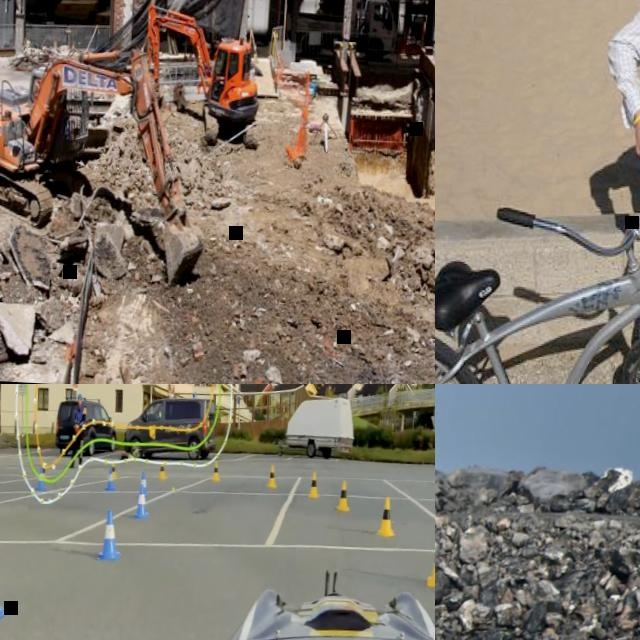NO-Hardhat: (77, 394, 83, 400)
NO-Mask: (79, 401, 82, 407)
NO-Safety Vest: (75, 407, 86, 428)
Person: (590, 0, 640, 384), (70, 394, 88, 470)
Safety Cone: (99, 510, 125, 562), (0, 539, 13, 625), (379, 494, 398, 538), (336, 479, 351, 514), (302, 71, 312, 123), (134, 488, 149, 520), (428, 528, 435, 590), (267, 462, 280, 491), (36, 464, 47, 497), (309, 470, 320, 501), (107, 466, 117, 493), (138, 472, 149, 496), (212, 460, 222, 484), (109, 458, 118, 482), (159, 459, 167, 481)
machinery: (0, 56, 214, 289), (139, 1, 267, 155), (285, 0, 399, 62)
vehicle: (0, 557, 435, 640), (122, 392, 219, 463), (55, 392, 118, 452)
